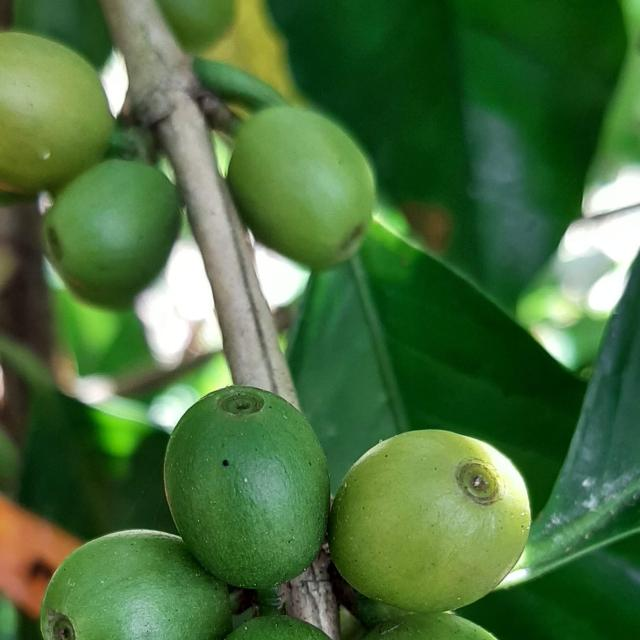green: (164, 386, 330, 590), (227, 106, 375, 270), (40, 531, 232, 640), (42, 159, 180, 302), (365, 614, 498, 640), (225, 616, 330, 640)
yellow: (329, 430, 532, 614), (0, 31, 113, 194)
